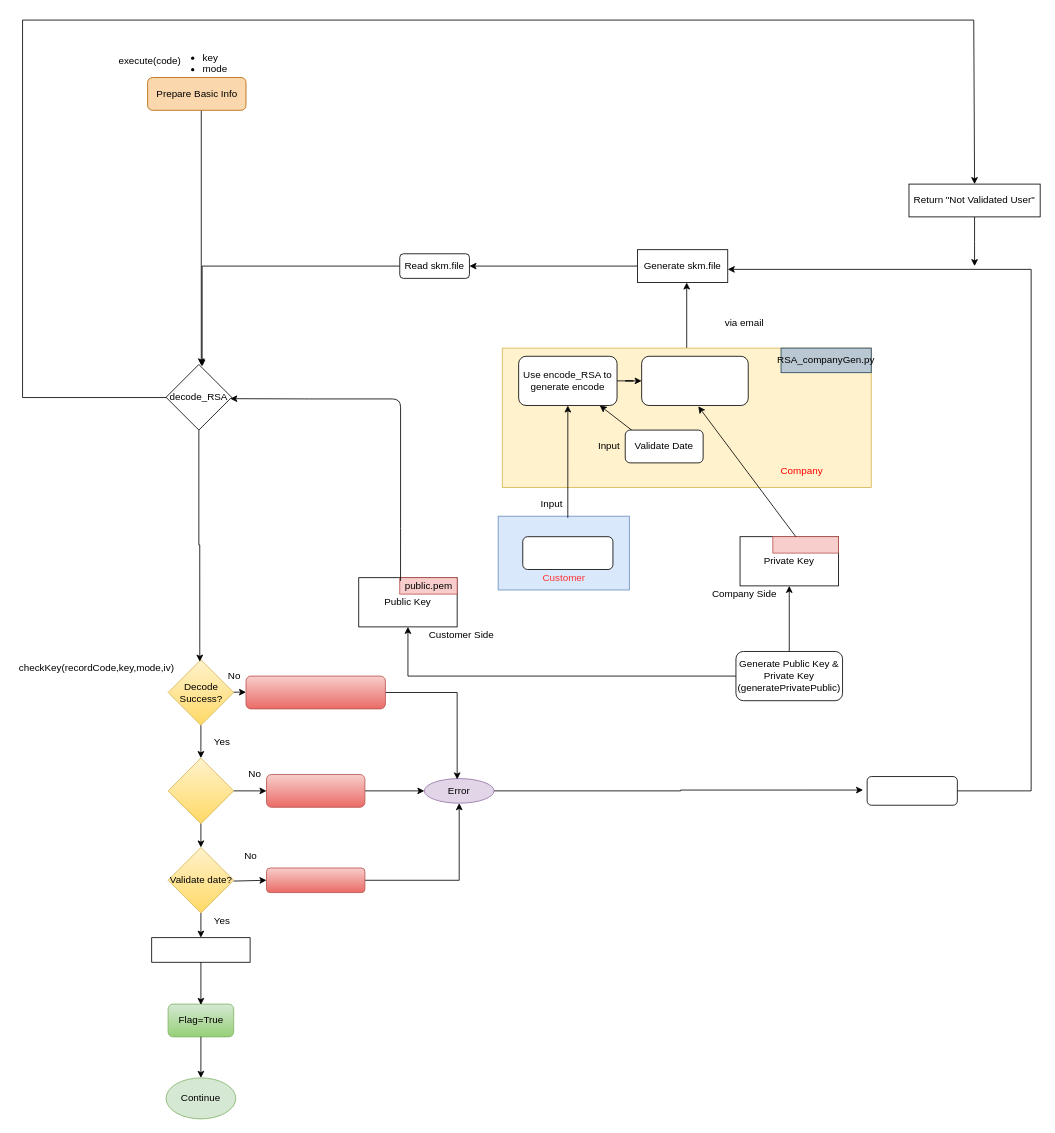
The diagram is 1055 pixels wide and 1133 high, and some of its shapes have lost their labels. Here are the shapes that lost their labels. From the top down, the centre of each, then its label:
(x=694, y=380): en_code: machineCode, signature, content
(x=567, y=552): machineCode (MAC Address)
(x=805, y=544): private.pem
(x=315, y=692): Return Error: Missing Code
(x=200, y=790): Check on Right Machine?
(x=315, y=790): Return Error: On Different Device
(x=911, y=790): Delete Licensefile
(x=315, y=880): Return "EXPIRED CODE"
(x=200, y=949): Validate Successfully
